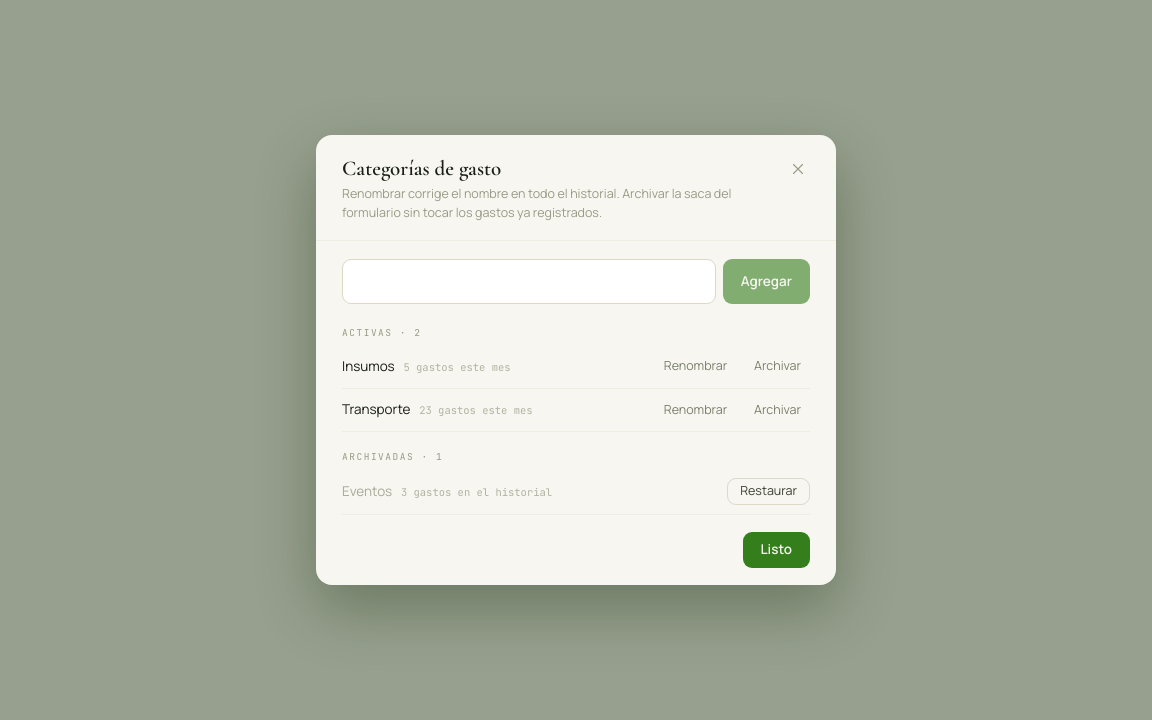
Test case: CategoryManagerModal › archiving › states the month the category keeps counting toward
Click the button with aria-label "Archivar Transporte".
click(778, 410)  # box [745,398,810,422]
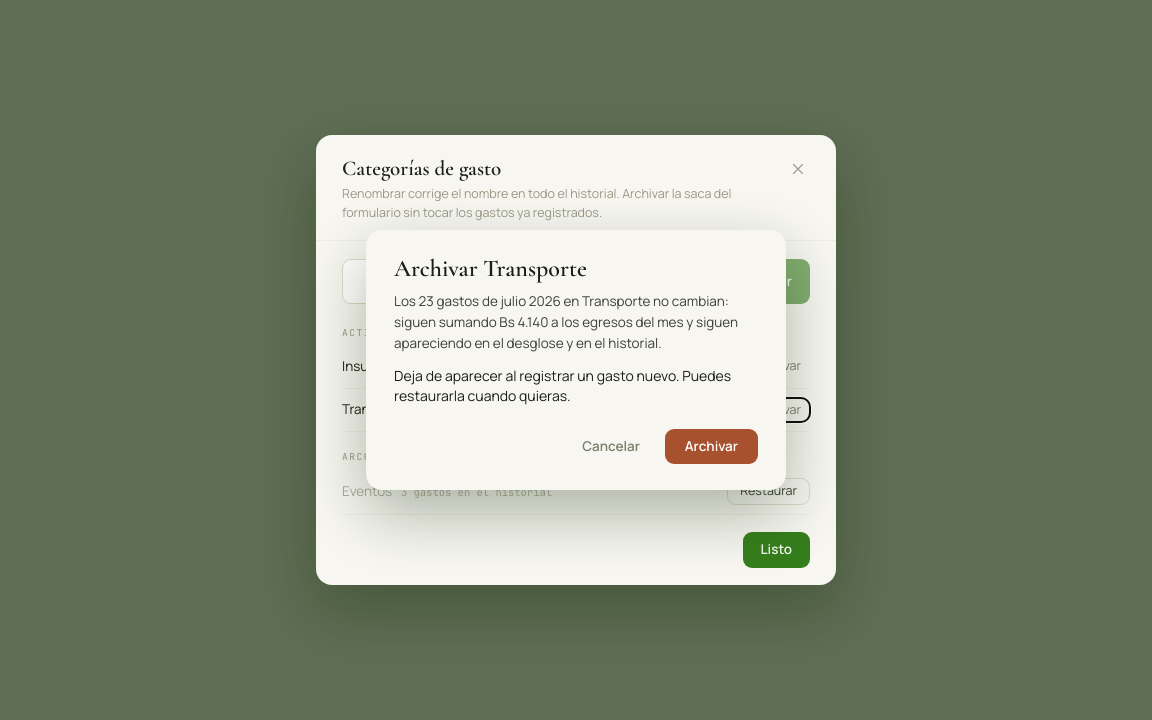
Now the text "Archivar Transporte" is shown, box [394,254,587,283]
Now the text "Los 23 gastos de julio 2026 en Transporte no cambian: siguen sumando Bs 4.140 a los egresos del mes y siguen apareciendo" is shown, box [394,292,738,352]
Now the text "Deja de aparecer al registrar un gasto nuevo. Puedes restaurarla cuando quieras." is shown, box [394,366,758,407]
